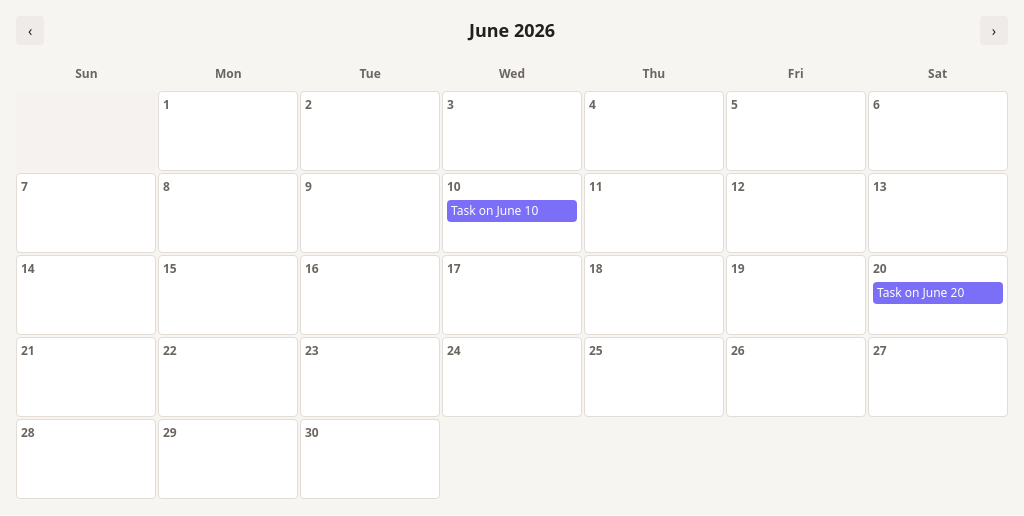
Test: CalendarView › after clicking Next, shows a July item in the July cell
Navigate to July
Click the button with test id "cal-next" at (994, 30), box [980,16,1008,45]
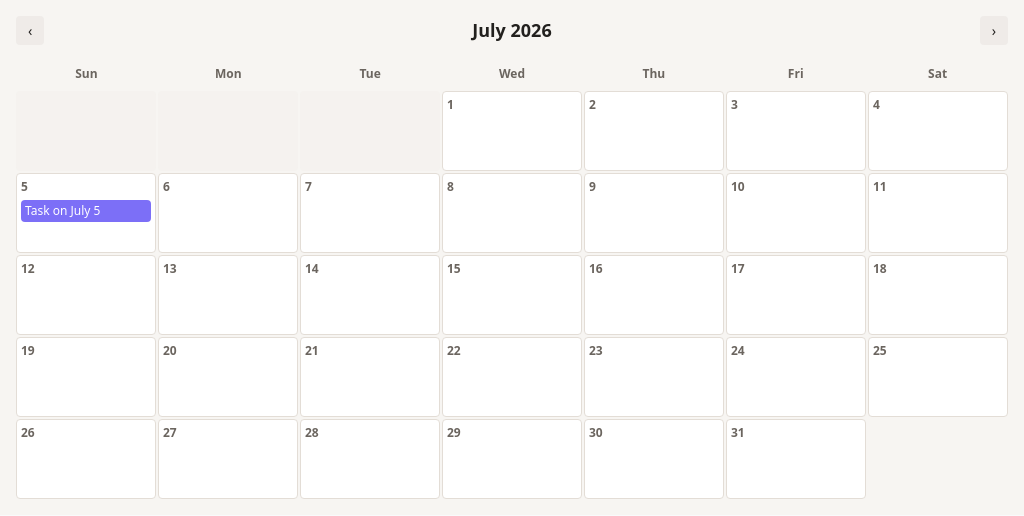
Now the button with test id "cal-item-item-D" is shown, box [21,200,151,222]
